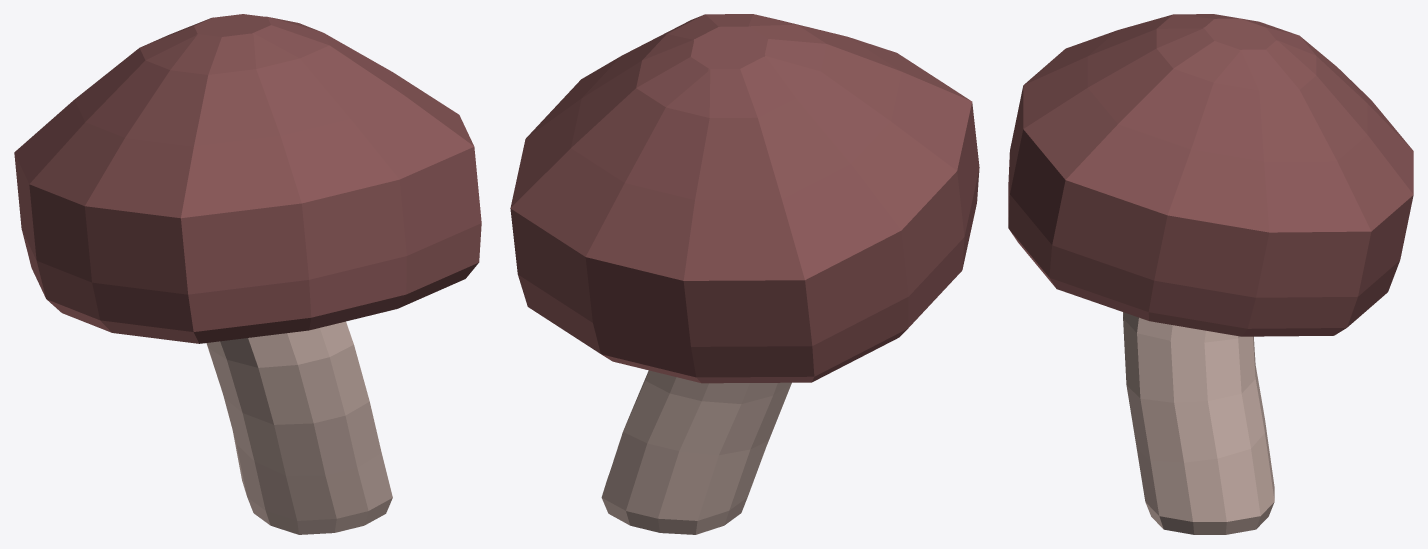
The model's file is Mushroom2.6.fbx.
3 views of the same model, side by side, from view 1: azimuth 30°, elevation 25°; view 2: azimuth 150°, elevation 25°; view 3: azimuth 270°, elevation 25° (orthographic). The views are drawn at different scales.
Visible parts, largest first — view 1: Mushroom2.6; view 2: Mushroom2.6; view 3: Mushroom2.6.
Boxes of the visible parts, box(x1,y1,x2,y2) form: Mushroom2.6: box(14, 14, 481, 534); Mushroom2.6: box(510, 14, 979, 534); Mushroom2.6: box(1008, 14, 1413, 534).
Bounding box in the file's own units: 122 × 153 × 124.
